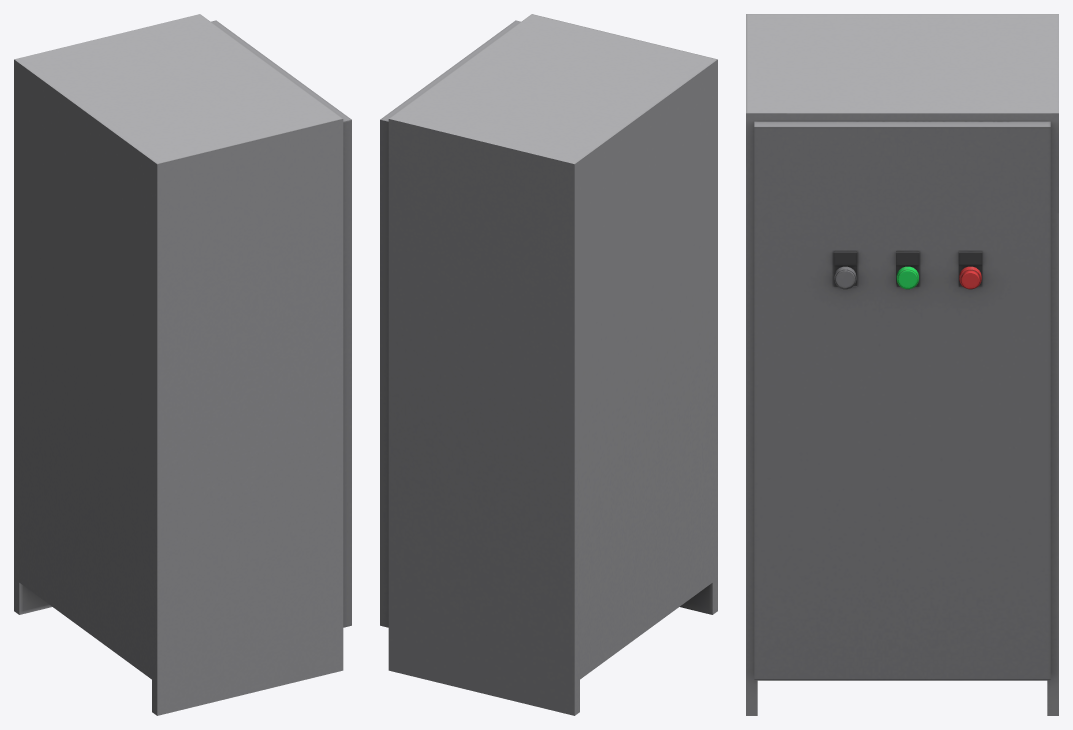
Rendered from Shelf.FBX.
The picture shows the model from 3 angles, left to right: view 1: azimuth 30°, elevation 25°; view 2: azimuth 150°, elevation 25°; view 3: azimuth 270°, elevation 25°; orthographic projection. The views are drawn at different scales.
Visible parts, largest first — view 1: Shelf; view 2: Shelf; view 3: Shelf.
Boxes of the visible parts, x1,y1,x2,y2 form: Shelf: (14,14,351,715); Shelf: (380,14,717,715); Shelf: (746,14,1058,715).
Size of the model in its own units: 340 by 400 by 850.
